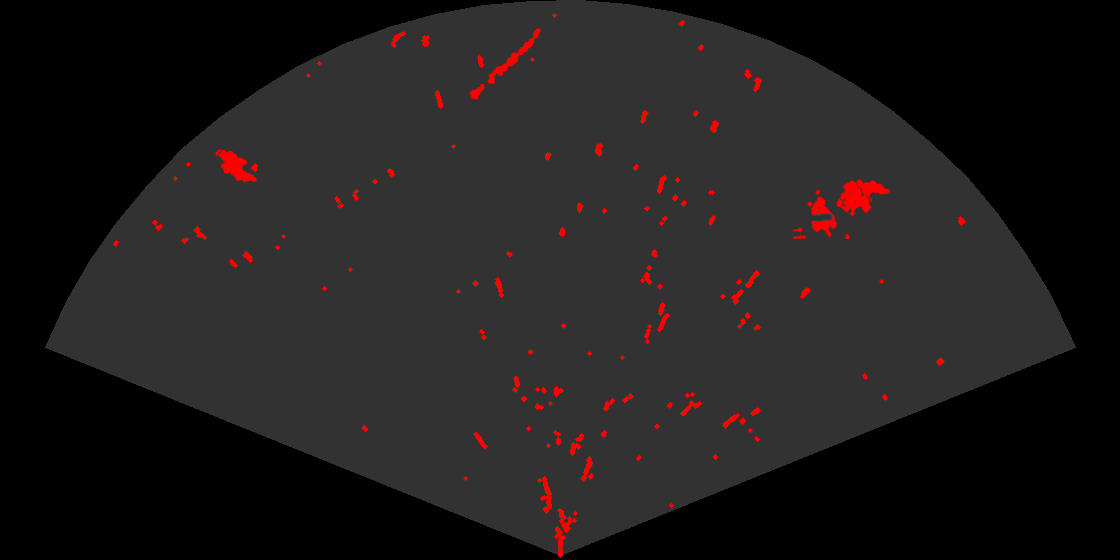AUV: (217, 148, 259, 184), (841, 178, 892, 204)
cage: (793, 179, 873, 239)
chain: (468, 27, 542, 101)
